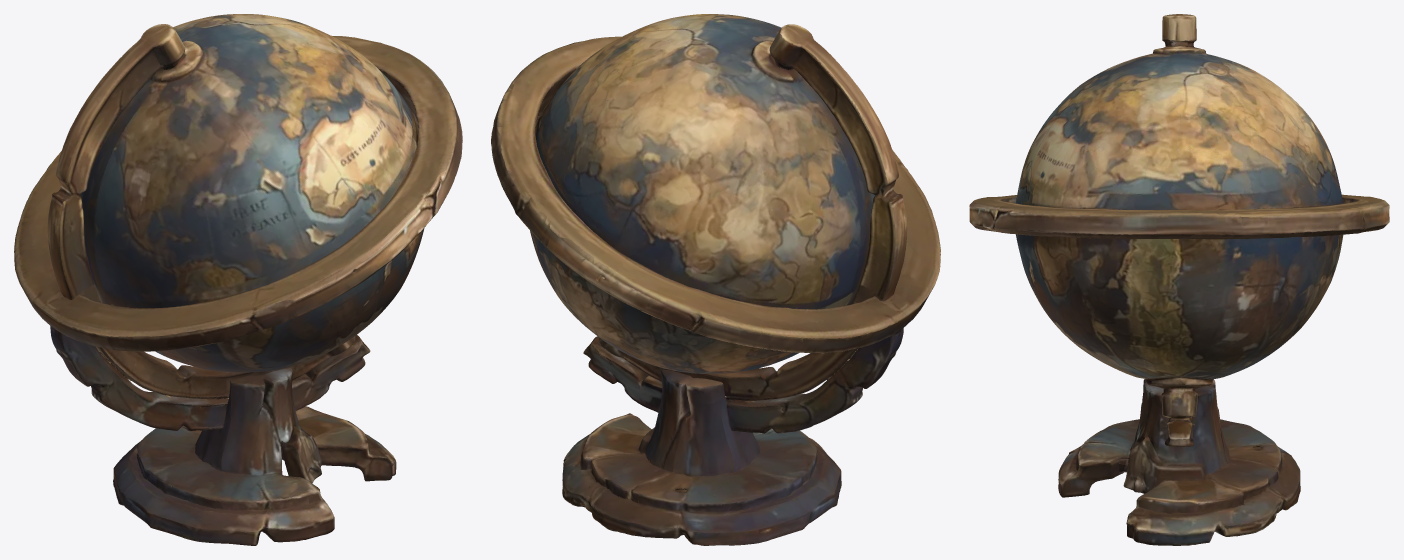
The model's file is globe-broken.glb.
3 renders of one model, left to right at view 1: azimuth 30°, elevation 25°; view 2: azimuth 150°, elevation 25°; view 3: azimuth 270°, elevation 25°, orthographic. The views are drawn at different scales.
Visible parts, largest first — view 1: geometry_0; view 2: geometry_0; view 3: geometry_0.
Part boxes in pixels (<box>): geometry_0: <box>14,14,462,545</box>; geometry_0: <box>491,14,940,545</box>; geometry_0: <box>969,14,1389,545</box>.
Size of the model in its own units: 0.373 by 0.45 by 0.3909.
Materials: 1 (1 with a texture image).
